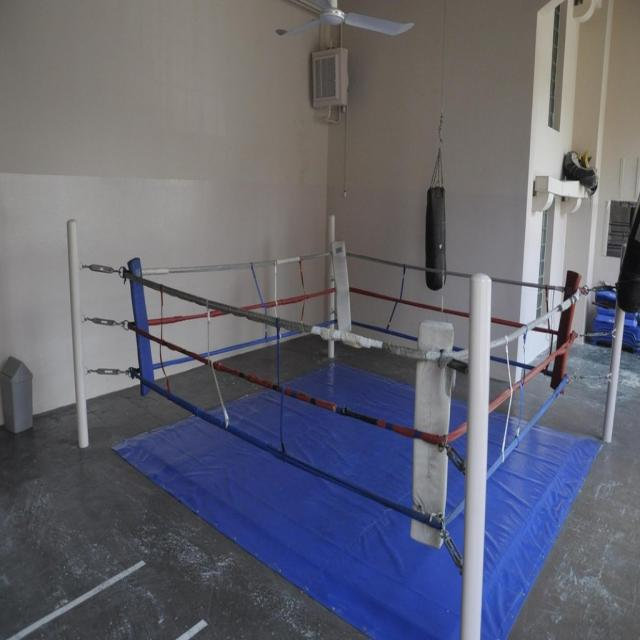Bulb: (273, 0, 415, 38)
